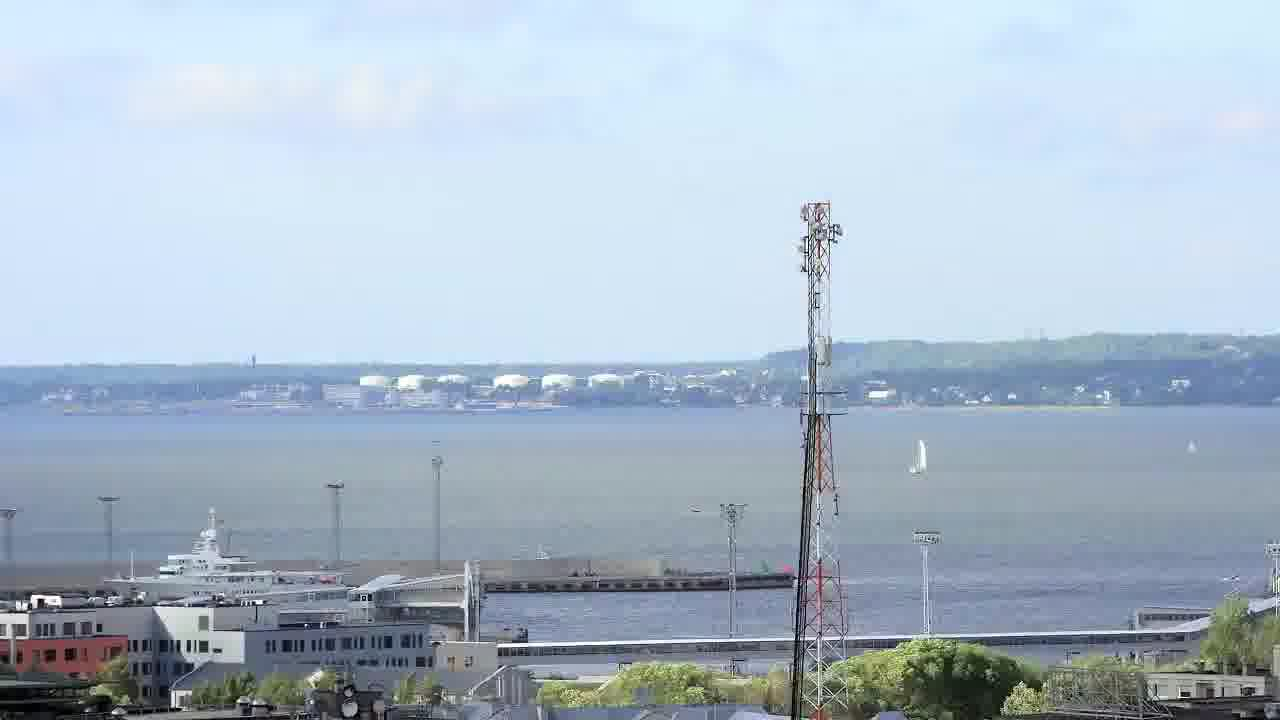type-2: (892, 430, 949, 486)
type-3: (84, 515, 355, 603)
